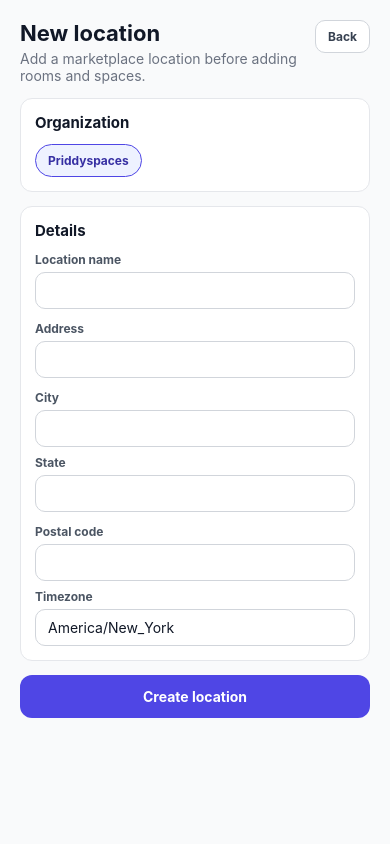
owner location mobile screens › creates a new owner location
The width and height of the screenshot is (390, 844).
Expected: the text "Priddyspaces" is shown, [48,153,129,168]
Type "New Rochester" into the field named "Location name" at [195, 290], box [35,272,355,309]
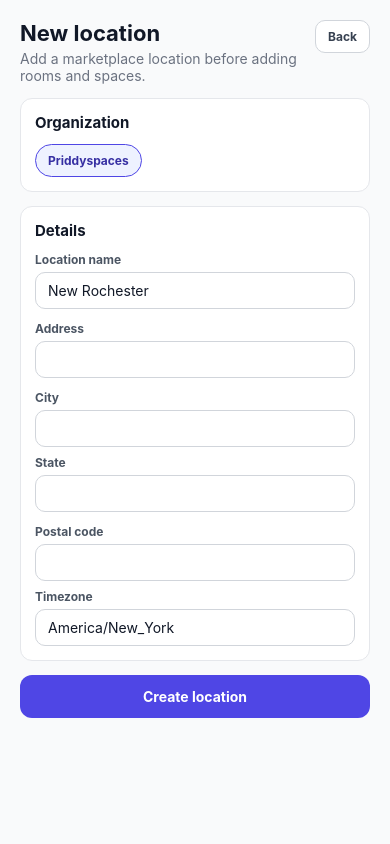
Type "101 Main St" into the field named "Address" at [195, 360], box [35,341,355,378]
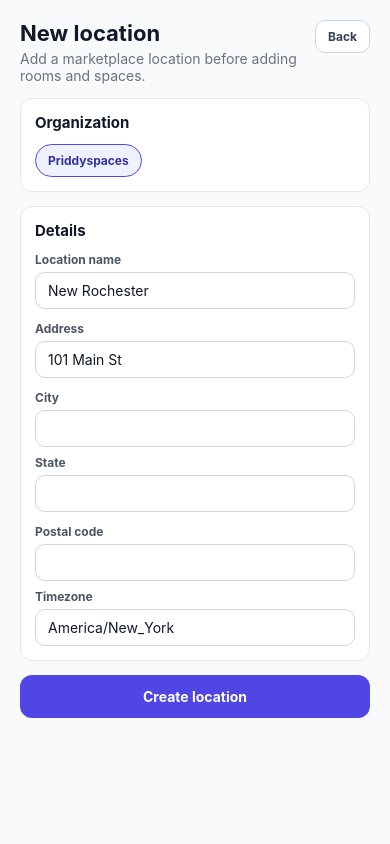
Type "Rochester" into the field named "City" at [195, 428], box [35,410,355,447]
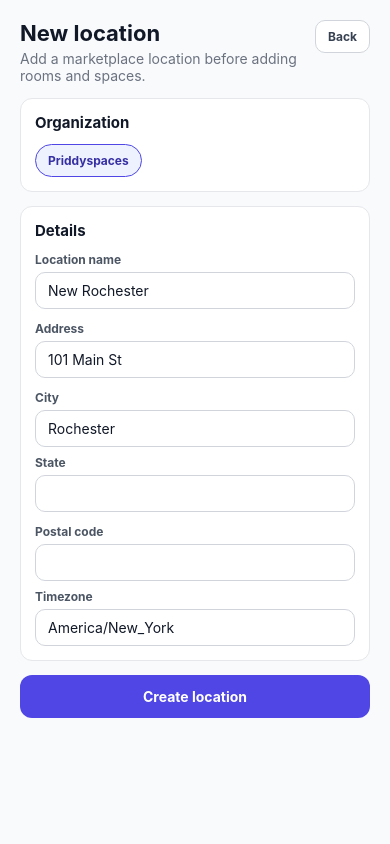
Click the text "Create location" at [195, 696], box [143,688,247,705]
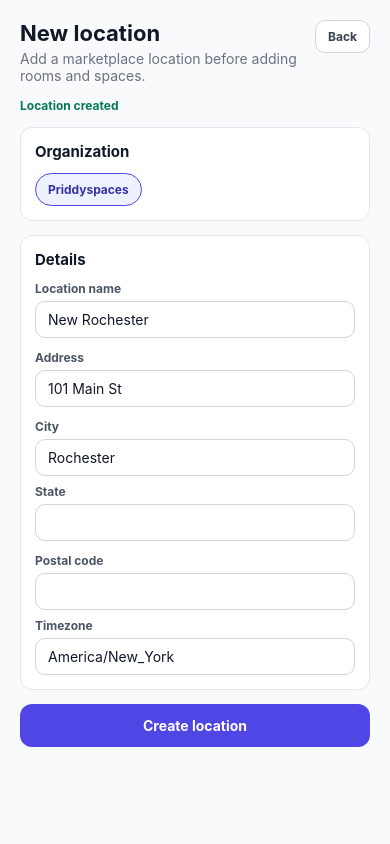
Expected: the text "Location created" is shown, [20,98,118,113]
